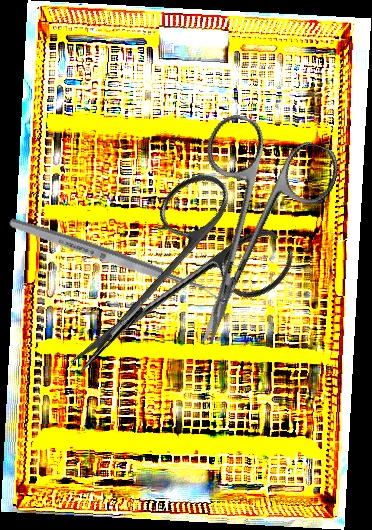Iris Scissors: (30, 158, 302, 423), (140, 108, 346, 365)
Surgical Spoon: (7, 214, 228, 304)
